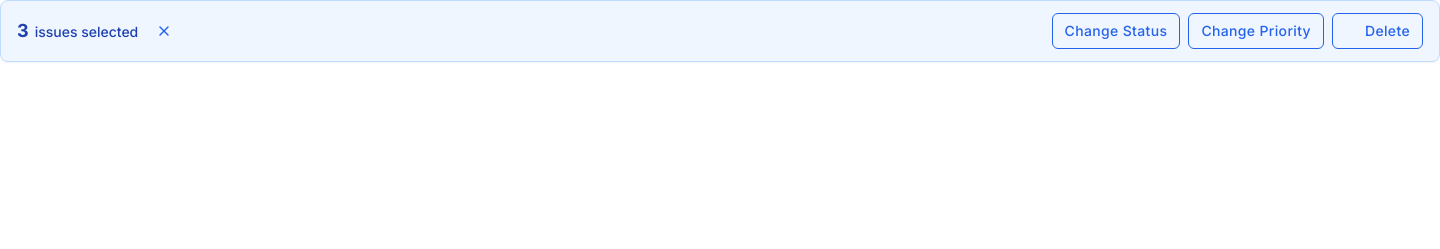
Test: BulkActionsBar › closes status dropdown after selecting option
Click the button "Change Status" at coordinates (1116, 31), box [1052, 13, 1180, 48]
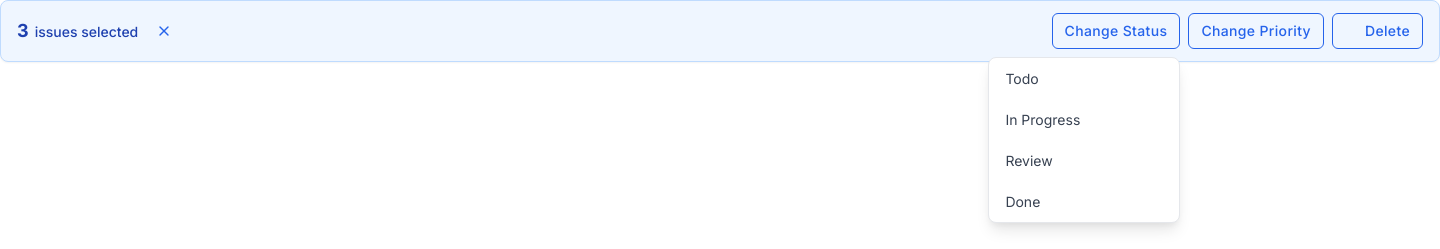
Click the menu item "Todo" at coordinates (1084, 78), box [989, 58, 1179, 98]
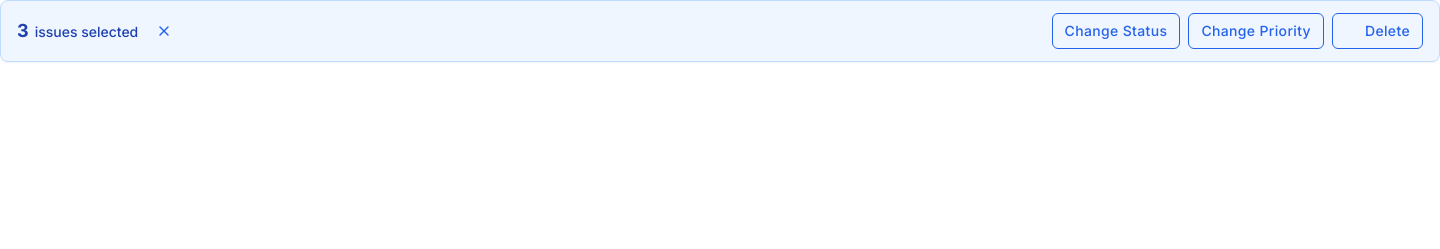
Now the menu is gone
